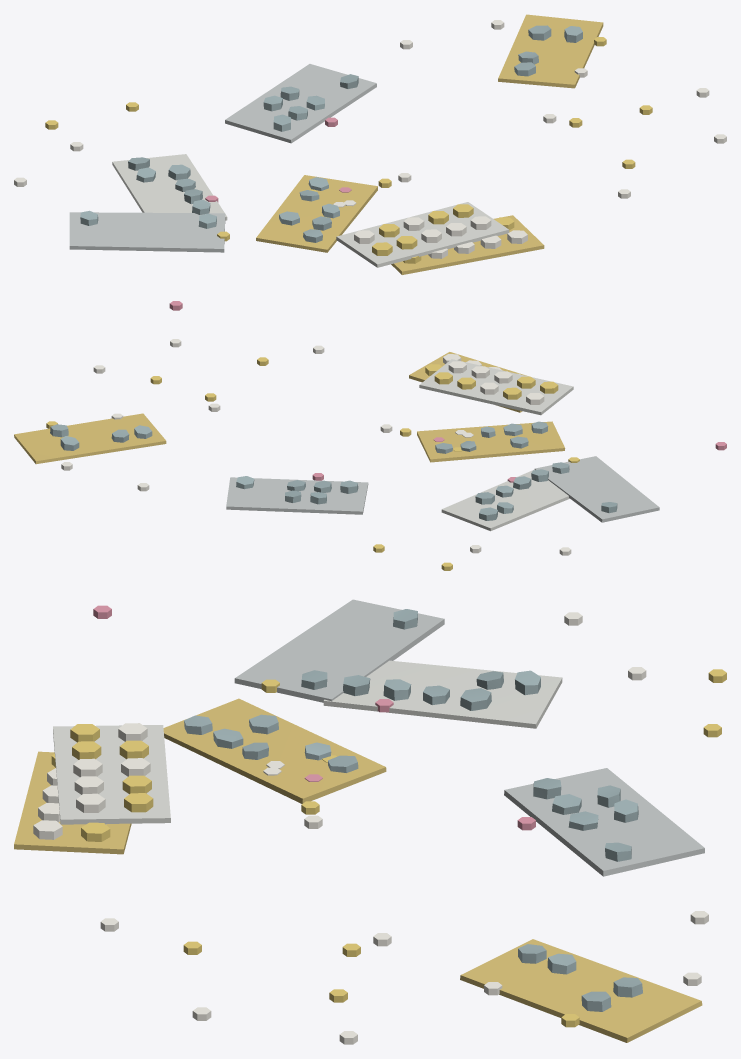
The model's file is blister_packs_broken.fbx.
The picture shows the model from 3 angles, top to bottom: view 1: azimuth 30°, elevation 25°; view 2: azimuth 150°, elevation 25°; view 3: azimuth 270°, elevation 25°; orthographic projection. The views are drawn at different scales.
Parts seen in each view (by area): view 1: blister_packs_broken_debris, blister_packs_broken; view 2: blister_packs_broken_debris, blister_packs_broken; view 3: blister_packs_broken_debris, blister_packs_broken.
Boxes of the visible parts, x1=… form: blister_packs_broken_debris: x1=14, y1=14, x2=726, y2=310; blister_packs_broken: x1=336, y1=202, x2=544, y2=274; blister_packs_broken_debris: x1=14, y1=339, x2=726, y2=570; blister_packs_broken: x1=409, y1=352, x2=573, y2=415; blister_packs_broken_debris: x1=93, y1=599, x2=726, y2=1044; blister_packs_broken: x1=14, y1=723, x2=170, y2=854.
Size of the model in its own units: 56.83 by 1.7 by 38.76.
